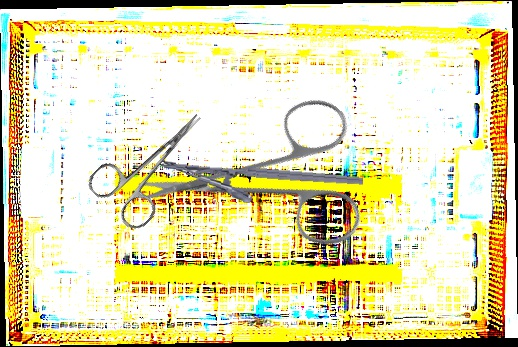Iris Scissors: (132, 40, 409, 316), (83, 92, 227, 235)
Needle Holder: (158, 158, 364, 214)
